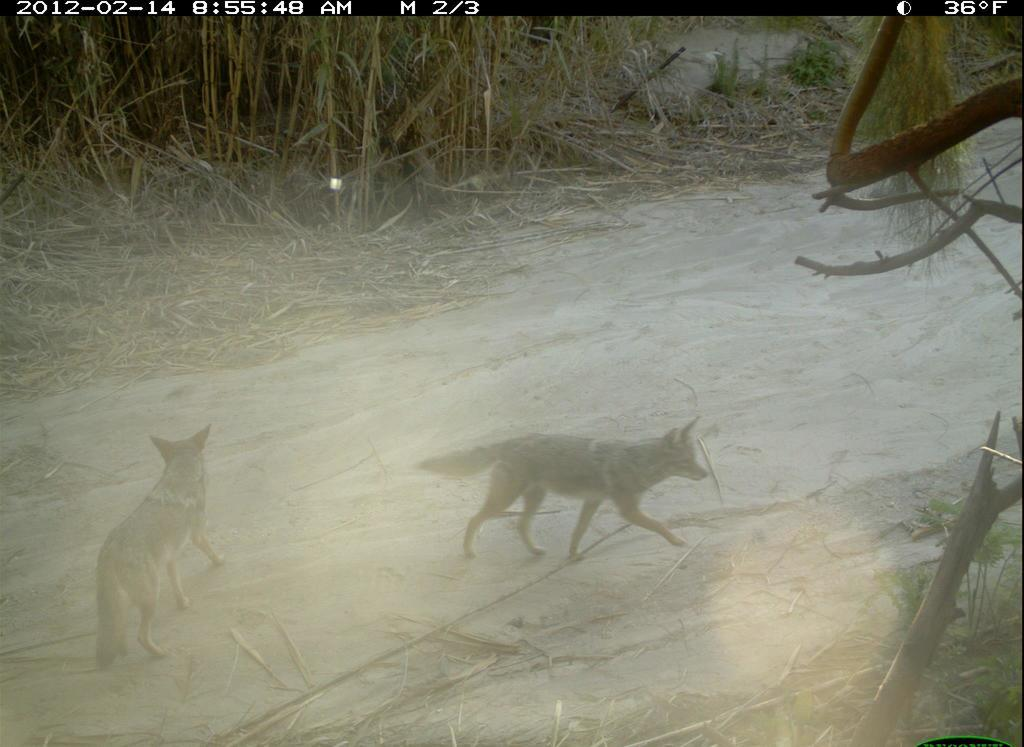coyote: (410, 410, 735, 585), (71, 418, 250, 683)
